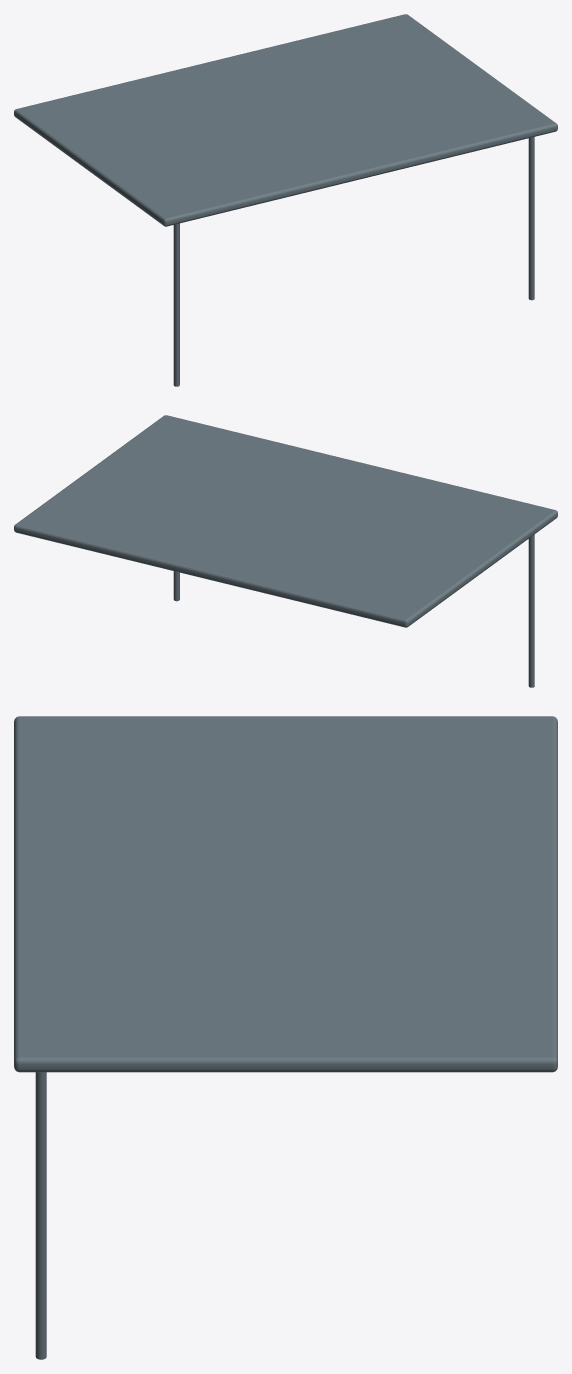
The model's file is canopy.fbx.
The picture shows the model from 3 angles, top to bottom: view 1: azimuth 30°, elevation 25°; view 2: azimuth 150°, elevation 25°; view 3: azimuth 270°, elevation 25°; orthographic projection. The views are drawn at different scales.
Parts seen in each view (by area): view 1: canopy; view 2: canopy; view 3: canopy.
Boxes of the visible parts, <box> form: canopy: <box>14,14,557,386</box>; canopy: <box>14,415,557,687</box>; canopy: <box>14,716,557,1359</box>.
Size of the model in its own units: 600 by 256 by 400.
